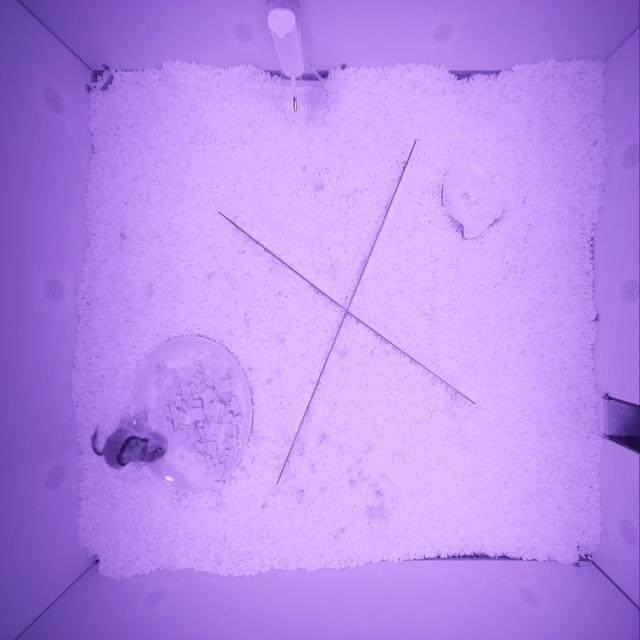adult_front: (103, 428, 168, 470)
